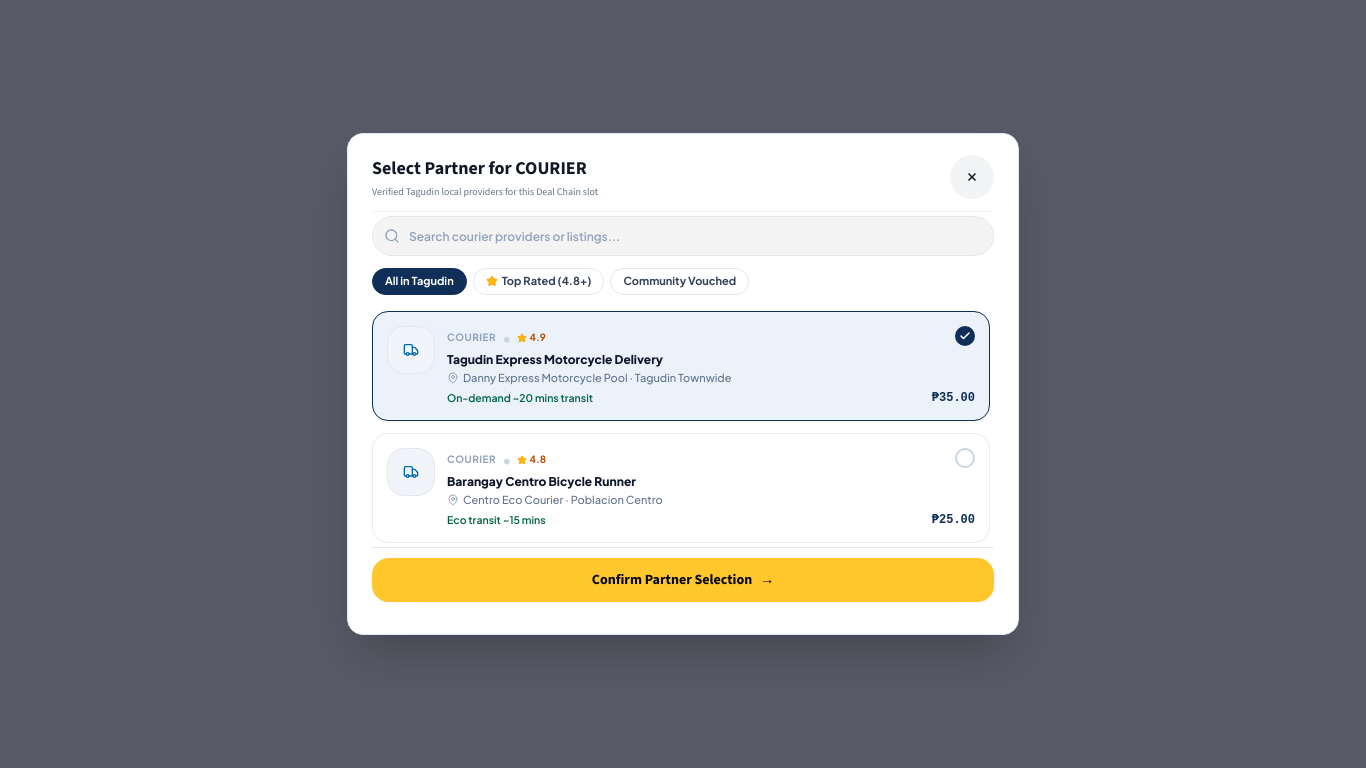
Test: SlotListingPickerModal › filters candidates based on search query
Type "Bicycle" into the field with placeholder "Search courier providers or listings...".
click(683, 236); type("Bicycle")  # box [372,216,994,256]
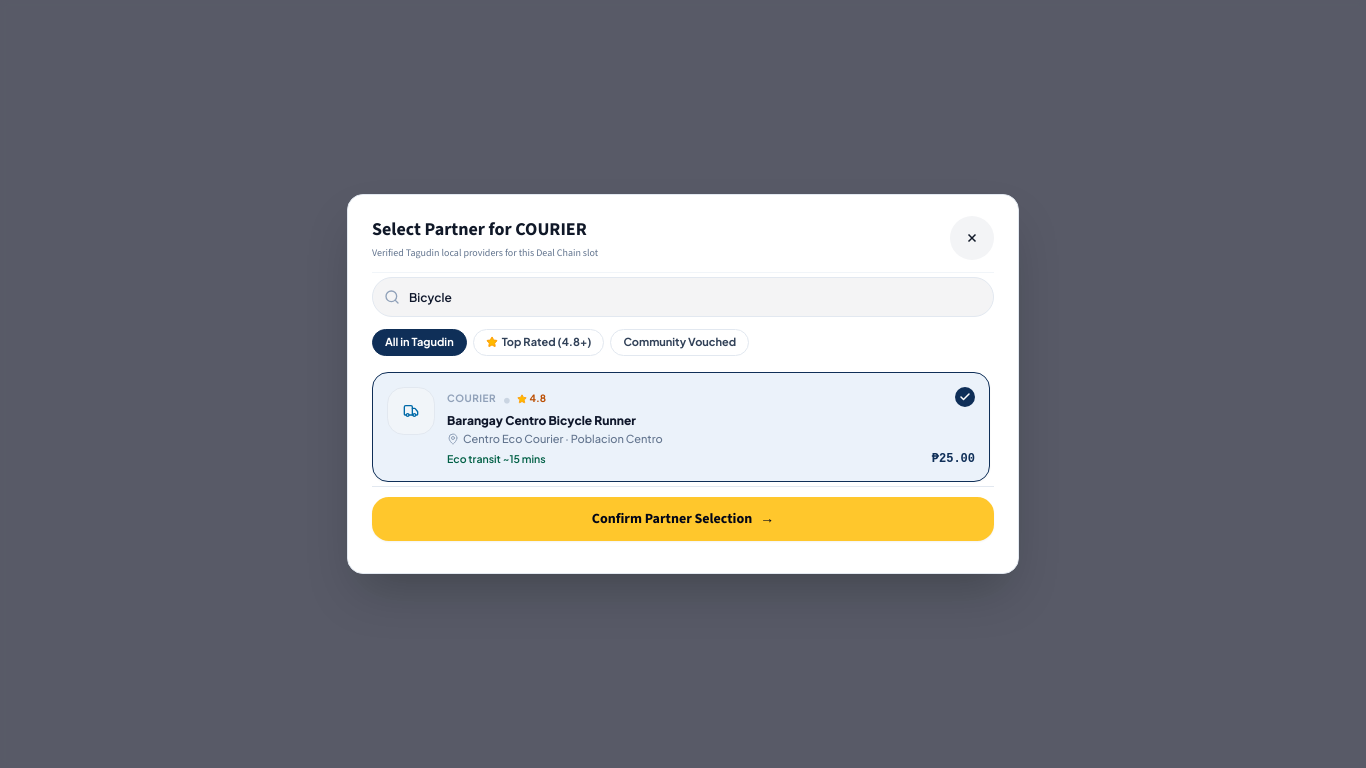
Expected: the heading "Tagudin Express Motorcycle Delivery" is gone
